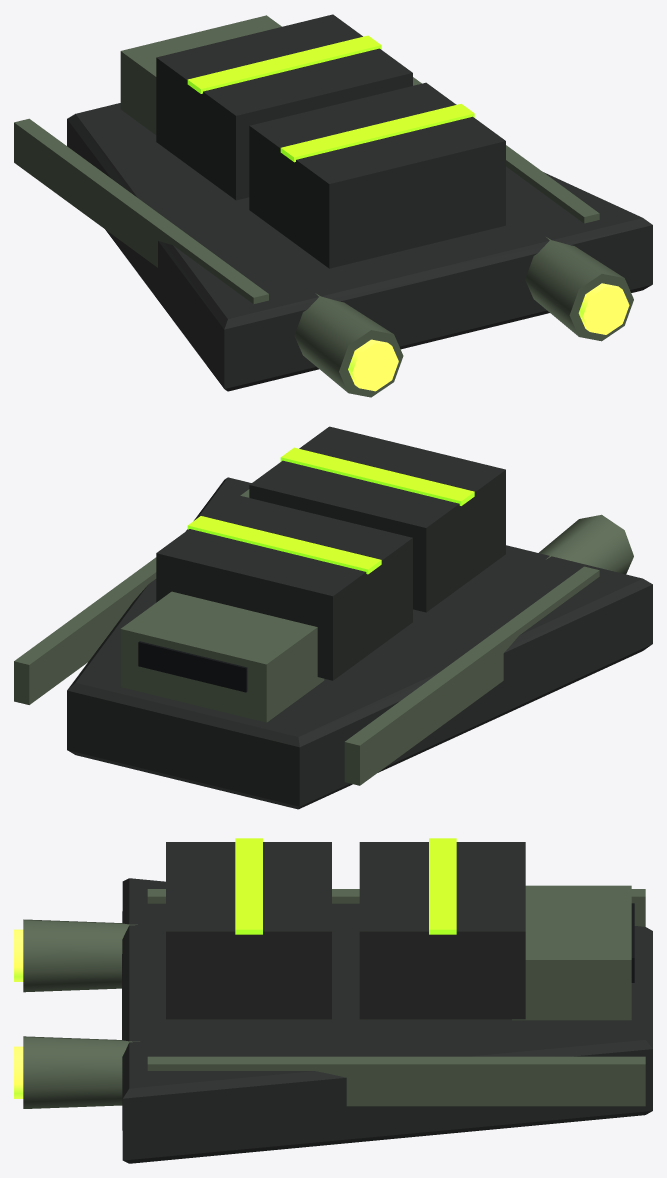
Rendered from Hauler.glb.
3 renders of one model, top to bottom at view 1: azimuth 30°, elevation 25°; view 2: azimuth 150°, elevation 25°; view 3: azimuth 270°, elevation 25°, orthographic. The views are drawn at different scales.
Parts seen in each view (by area): view 1: hauler, hauler_hull, hauler_rail (×2), hauler_engine_nacelle (×2), hauler_cab, hauler_engine_bell (×2); view 2: hauler_hull, hauler, hauler_rail (×2), hauler_cab, hauler_engine_nacelle, hauler_cabglass; view 3: hauler, hauler_hull, hauler_rail (×2), hauler_cab, hauler_engine_nacelle (×2), hauler_engine_bell (×2).
Part boxes in pixels (box(x1,y1,x2,y2)): hauler: box(156, 14, 505, 268); hauler_hull: box(67, 103, 652, 391); hauler_rail (×2): box(14, 77, 599, 303); hauler_engine_nacelle (×2): box(294, 237, 633, 397); hauler_cab: box(120, 15, 281, 134); hauler_engine_bell (×2): box(348, 283, 629, 391); hauler_hull: box(67, 477, 652, 809); hauler: box(156, 426, 505, 680); hauler_rail (×2): box(14, 489, 599, 785); hauler_cab: box(120, 591, 324, 722); hauler_engine_nacelle: box(539, 514, 633, 574); hauler_cabglass: box(138, 641, 247, 692); hauler: box(166, 838, 525, 1019); hauler_hull: box(122, 878, 652, 1163); hauler_rail (×2): box(147, 889, 645, 1106); hauler_cab: box(512, 885, 631, 1020); hauler_engine_nacelle (×2): box(23, 919, 139, 1108); hauler_engine_bell (×2): box(14, 929, 23, 1098).
Bounding box in the file's own units: 46.21 × 17.32 × 57.42.
